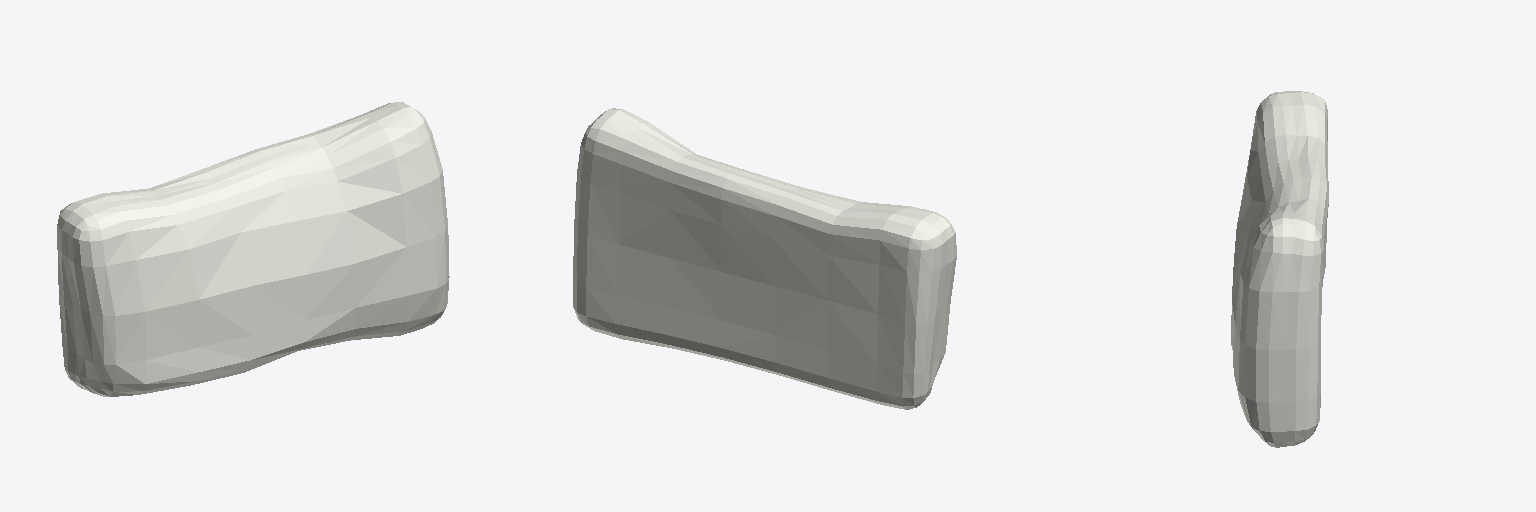
3 renders of one model, left to right at view 1: azimuth 30°, elevation 25°; view 2: azimuth 150°, elevation 25°; view 3: azimuth 270°, elevation 25°, orthographic.
Visible parts, largest first — view 1: Bed.003_Material.003; view 2: Bed.003_Material.003; view 3: Bed.003_Material.003.
Part boxes in pixels (bbox=[...]): Bed.003_Material.003: bbox=[57, 102, 449, 396]; Bed.003_Material.003: bbox=[573, 108, 956, 409]; Bed.003_Material.003: bbox=[1231, 91, 1328, 447].
Size of the model in its own units: 0.4451 by 0.2547 by 0.1032.
Materials: 1 (1 with a texture image).